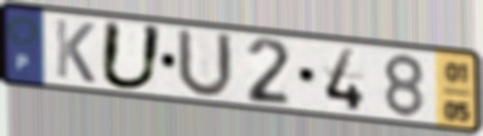2: (243, 35, 292, 107)
4: (322, 46, 366, 113)
8: (380, 51, 429, 120)
K: (53, 16, 98, 86)
U: (96, 18, 167, 93), (174, 25, 237, 102)
